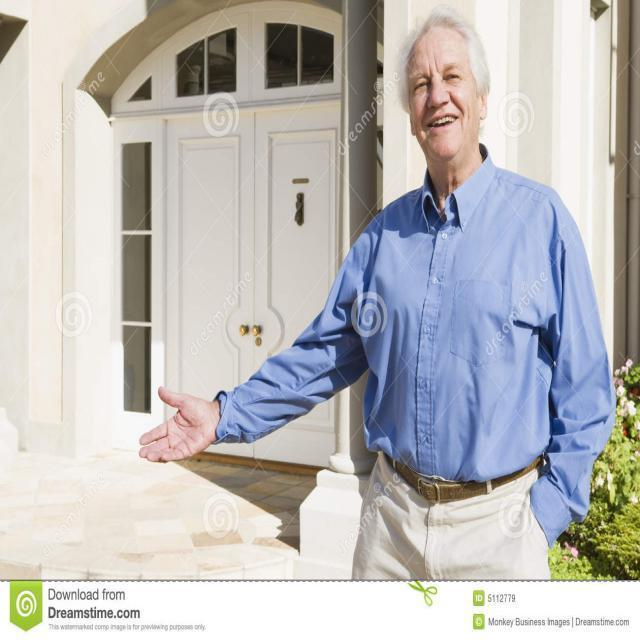walking: (118, 6, 619, 575)
